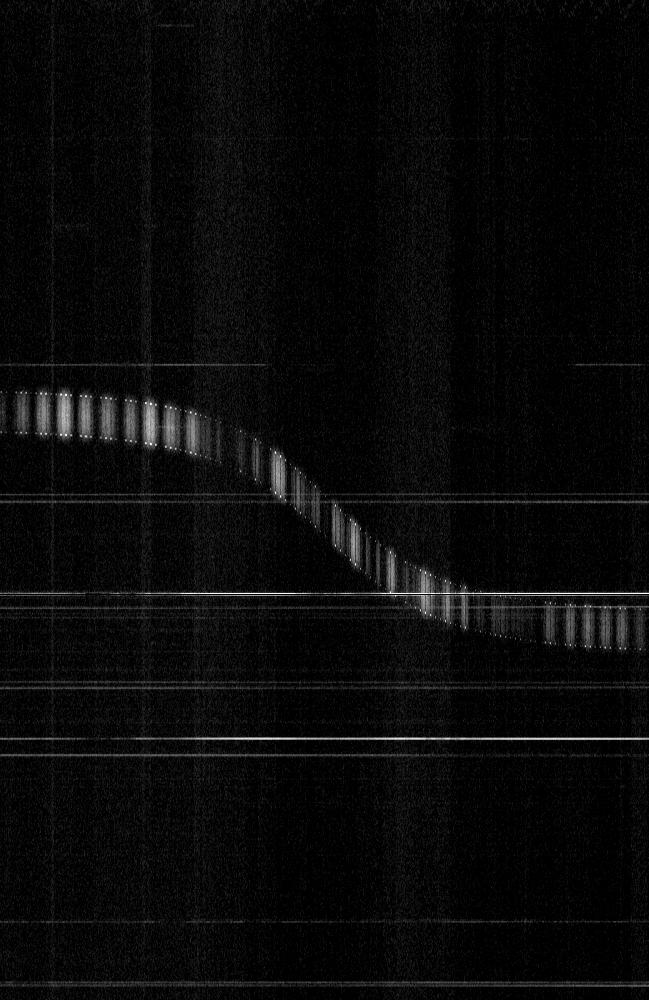signal: (0, 0, 648, 999)
